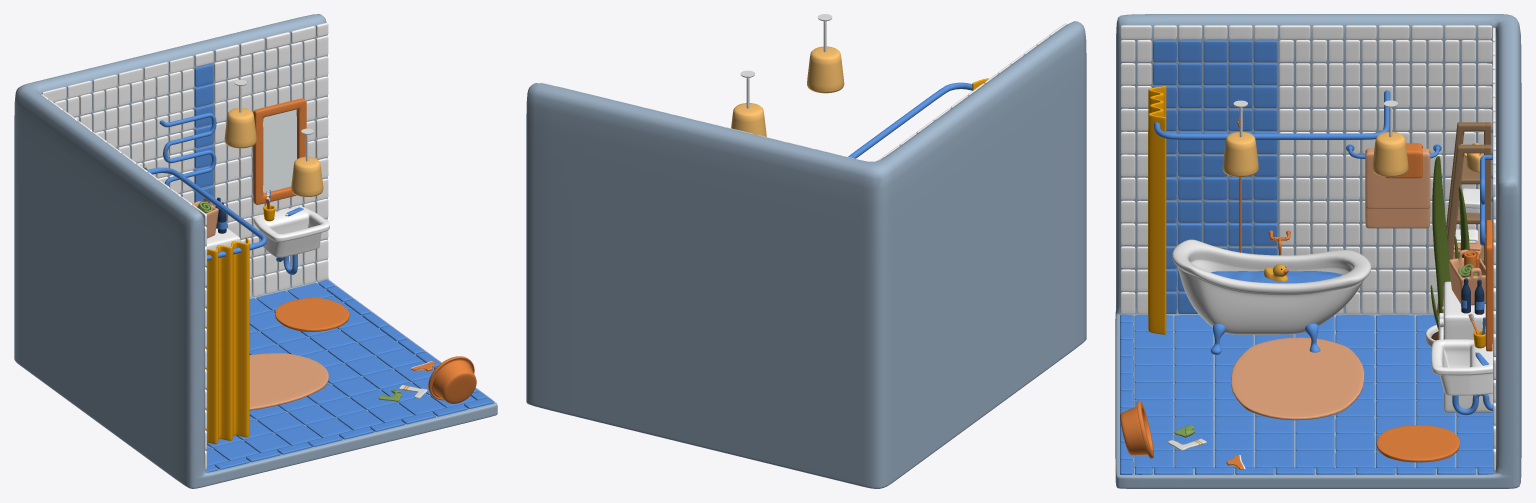
3 views of the same model, side by side, from view 1: azimuth 30°, elevation 25°; view 2: azimuth 150°, elevation 25°; view 3: azimuth 270°, elevation 25° (orthographic). The views are drawn at different scales.
Parts seen in each view (by area): view 1: wBox.001, wBox.009, wBox.027, wBox.012, wBox.037, wBox.054, wBox.006, wBox.039, wBox.028, wBox.024, wBox.029, wBox.051 (+7 smaller); view 2: wBox.001, wSphere.006, wSphere.005, wTube.002, wBox.054; view 3: wBox.001, wBox.009, wBox.016, wBox.026, wBox, wBox.006, wBox.054, wBox.037, wBox.025, wBox.005, wBox.011, wBox.067 (+22 smaller).
Boxes of the visible parts, x1,y1,x2,y2 form: wBox.001: [14, 14, 497, 488]; wBox.009: [205, 283, 475, 465]; wBox.027: [214, 35, 493, 424]; wBox.012: [54, 68, 193, 203]; wBox.037: [205, 237, 249, 444]; wBox.054: [41, 23, 328, 225]; wBox.006: [249, 353, 328, 410]; wBox.039: [253, 206, 329, 257]; wBox.028: [263, 109, 296, 192]; wBox.024: [194, 64, 213, 204]; wBox.029: [253, 98, 306, 204]; wBox.051: [275, 298, 349, 331]; wBox.001: [526, 21, 1086, 488]; wSphere.006: [807, 14, 844, 93]; wSphere.005: [731, 70, 766, 136]; wTube.002: [848, 82, 972, 158]; wBox.054: [541, 23, 1067, 160]; wBox.001: [1115, 14, 1521, 488]; wBox.009: [1134, 315, 1492, 468]; wBox.016: [1279, 40, 1475, 314]; wBox.026: [1153, 40, 1277, 313]; wBox: [1172, 239, 1371, 334]; wBox.006: [1231, 337, 1364, 420]; wBox.054: [1120, 25, 1495, 196]; wBox.037: [1148, 86, 1166, 334]; wBox.025: [1120, 40, 1135, 314]; wBox.005: [1365, 148, 1430, 228]; wBox.011: [1137, 40, 1151, 314]; wBox.067: [1437, 122, 1491, 315].
Size of the model in its own units: 1603 by 1370 by 1618.
